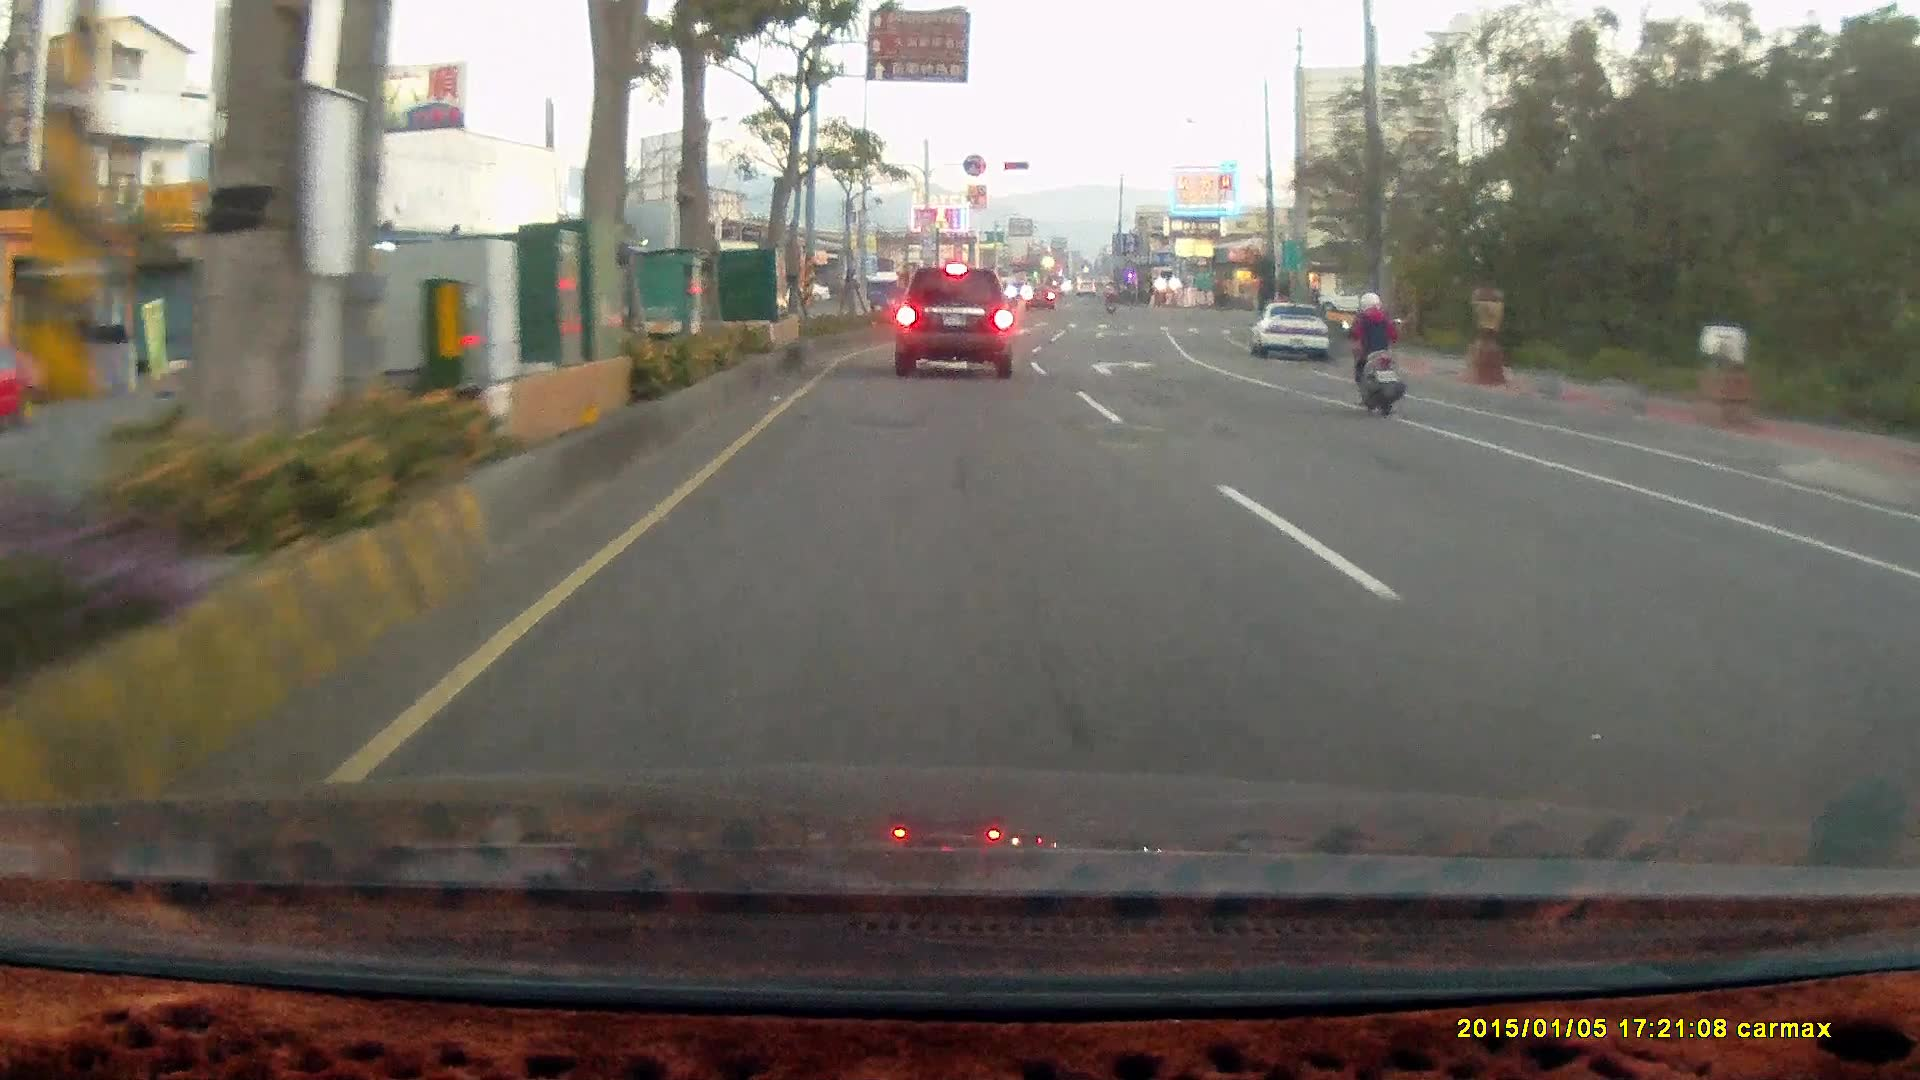rider: (1339, 293, 1404, 421)
vehicle: (892, 266, 1010, 379), (1896, 493, 1920, 836), (1883, 528, 1920, 690), (1, 338, 55, 435), (1248, 300, 1332, 363), (1251, 304, 1334, 365), (1306, 279, 1382, 315)
